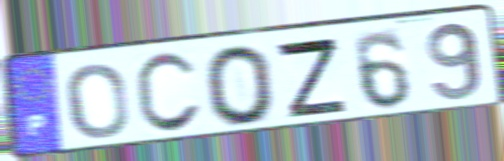6: (351, 27, 414, 113)
9: (424, 21, 485, 103)
C: (131, 49, 205, 138)
O: (201, 42, 279, 129), (63, 61, 132, 143)
Z: (272, 35, 350, 120)
